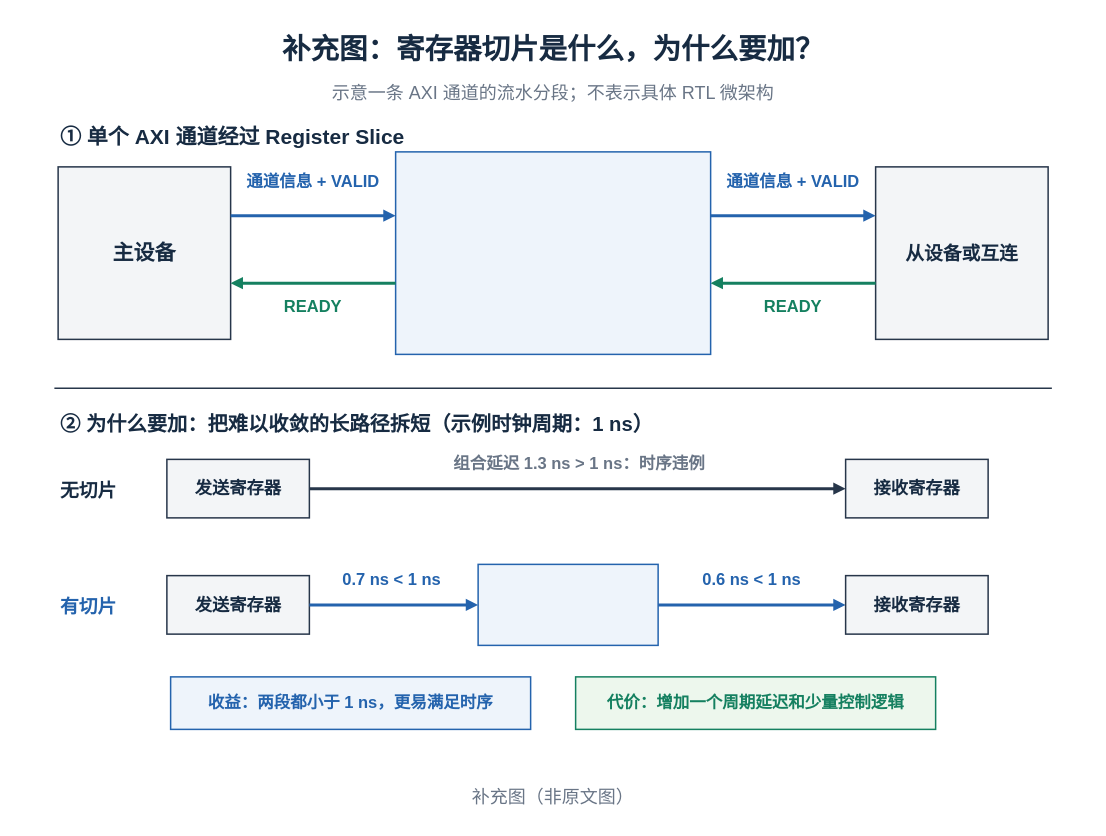
This 1106x836 diagram has some shape labels left out. Here are the shapes that lost their labels. From the top down, the centre of each, then its label:
At pixel 552 253: "寄存器切片 Register Slice 暂存通道信息 保持 VALID/READY 握手语义".
At pixel 567 604: "寄存器切片 Register Slice".
